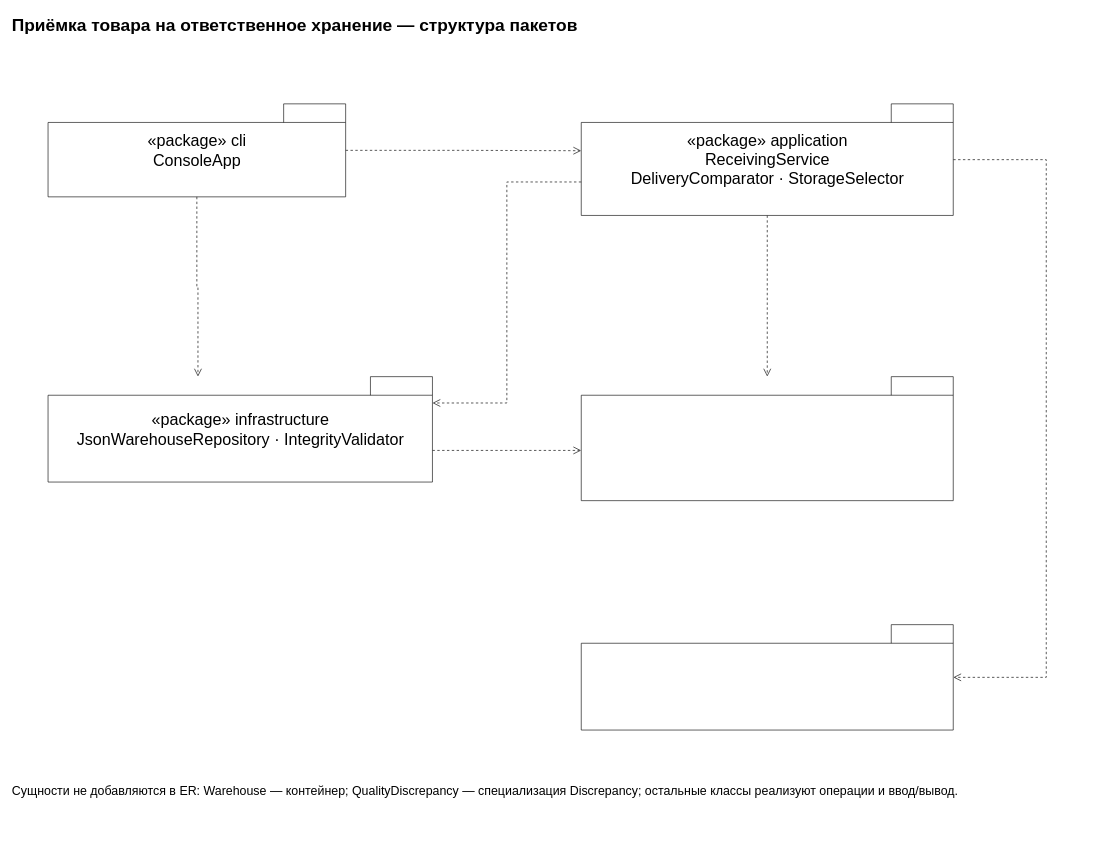
The diagram is 1094 pixels wide and 852 high, and some of its shapes have lost their labels. The shapes that lost their labels are listed below. From the top down, each one's centre as x and y in pixels, then its label:
At point (767, 438): "«package» domain 8 сущностей ER Warehouse · QualityDiscrepancy".
At point (767, 677): "«package» rules StorageRule ConditionsRule · ZoneRule".
